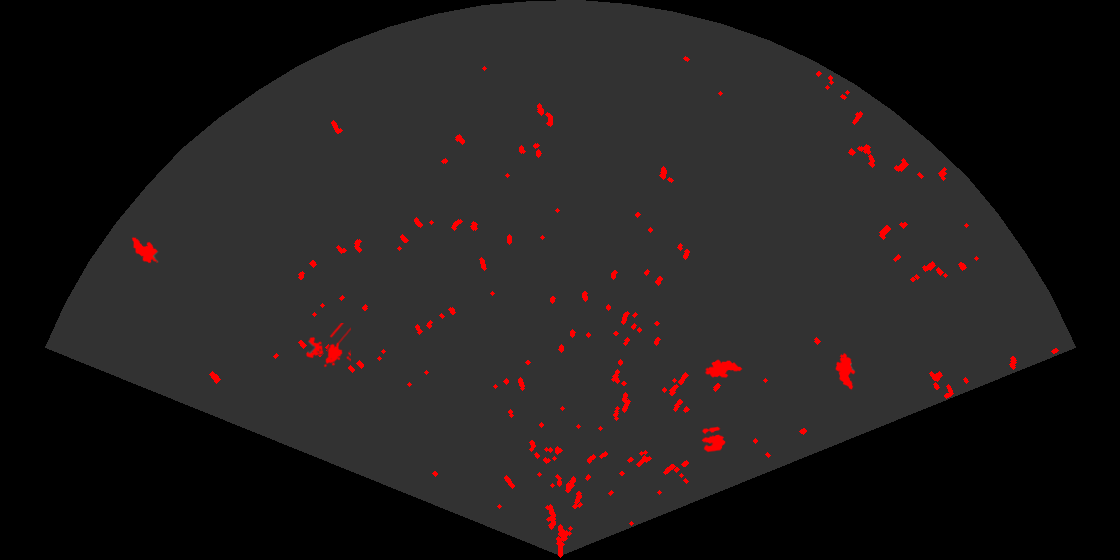AUV: (834, 351, 857, 392), (130, 235, 159, 265), (703, 358, 744, 379)
ball: (700, 425, 727, 454)
cage: (304, 323, 351, 369)
